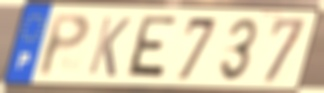3: (216, 16, 261, 83)
7: (264, 15, 309, 86), (178, 15, 218, 83)
E: (122, 13, 180, 82)
K: (85, 14, 134, 80)
P: (36, 12, 92, 80)
